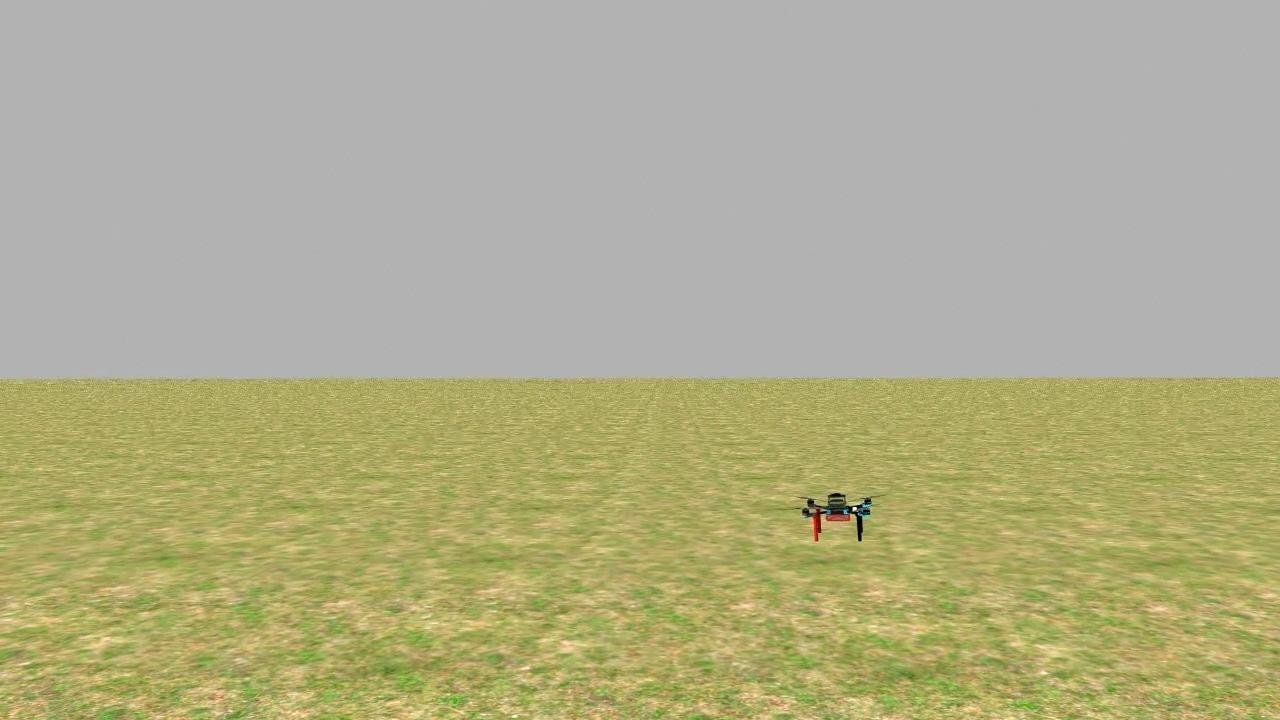UAV: (792, 479, 884, 547)
